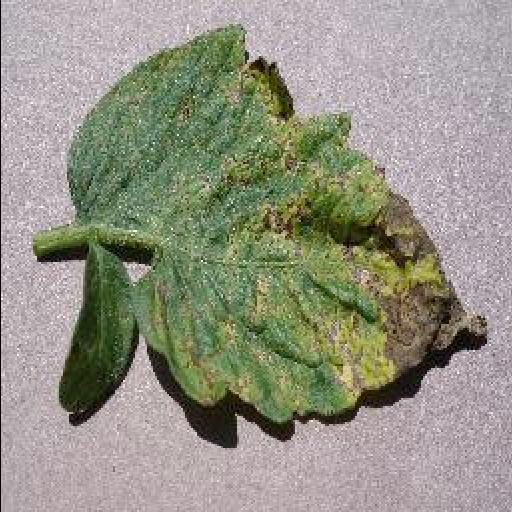disease_tomato: (58, 28, 486, 426)
